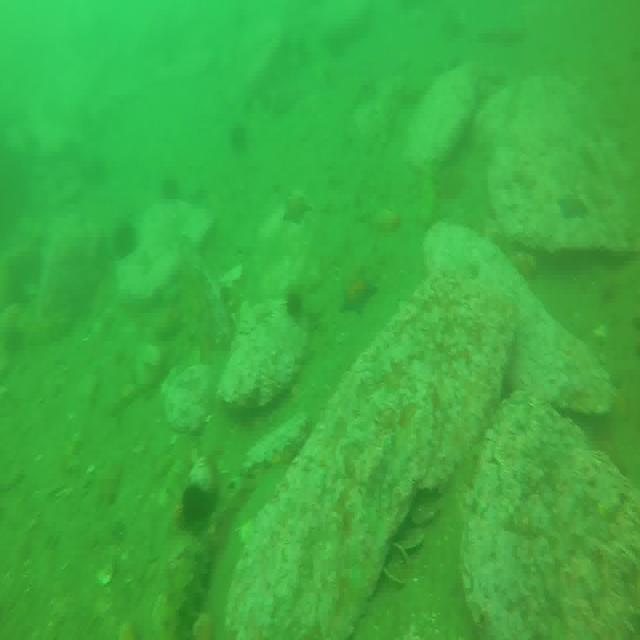echinus: (184, 482, 207, 531), (112, 224, 136, 256), (285, 287, 304, 323), (159, 177, 179, 205)
holothurian: (167, 537, 220, 640)
starfish: (339, 268, 377, 320), (283, 196, 309, 228)
